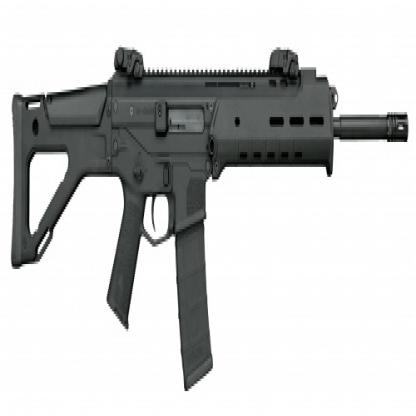Gun: (0, 0, 415, 414)
